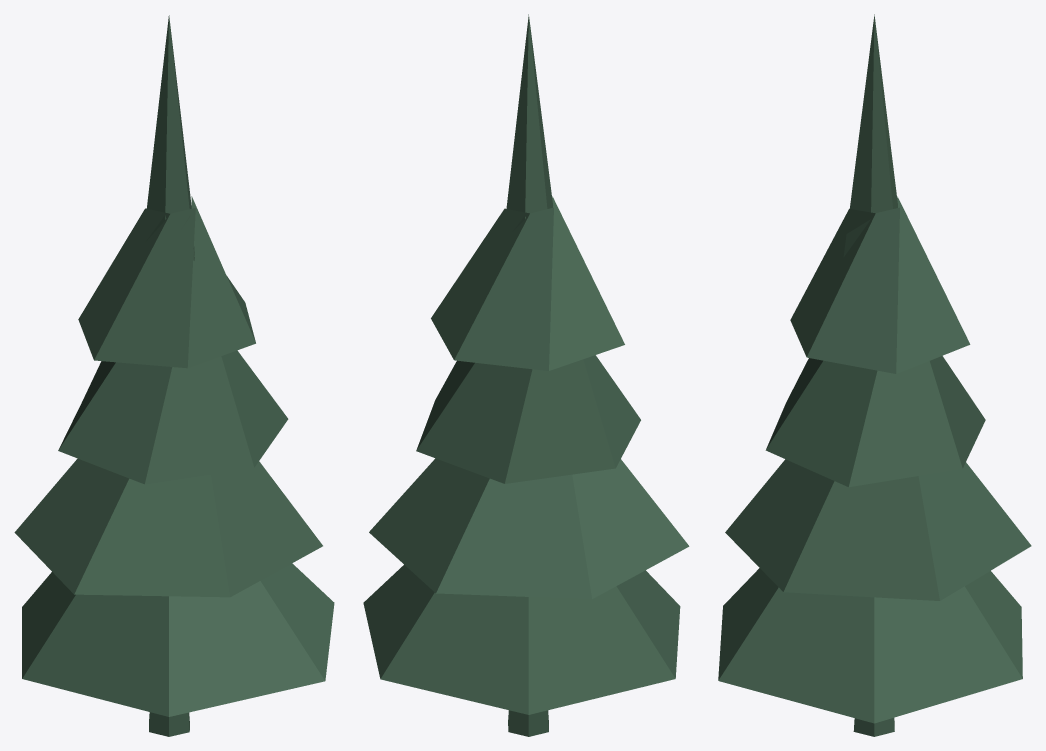
The model's file is tree_conifer_tall.glb.
The picture shows the model from 3 angles, left to right: view 1: azimuth 30°, elevation 25°; view 2: azimuth 150°, elevation 25°; view 3: azimuth 270°, elevation 25°; orthographic projection.
Parts seen in each view (by area): view 1: tree_conifer_tall; view 2: tree_conifer_tall; view 3: tree_conifer_tall.
Boxes of the visible parts, box(x1,y1,x2,y2) form: tree_conifer_tall: box(14, 15, 334, 736); tree_conifer_tall: box(363, 14, 689, 736); tree_conifer_tall: box(718, 14, 1031, 736).
Bounding box in the file's own units: 4.58 × 10 × 3.99.
